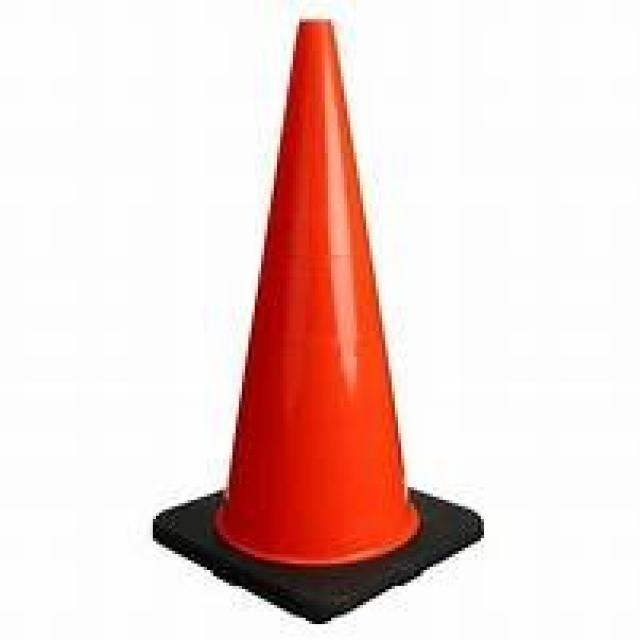traffic cone: (141, 16, 492, 631)
